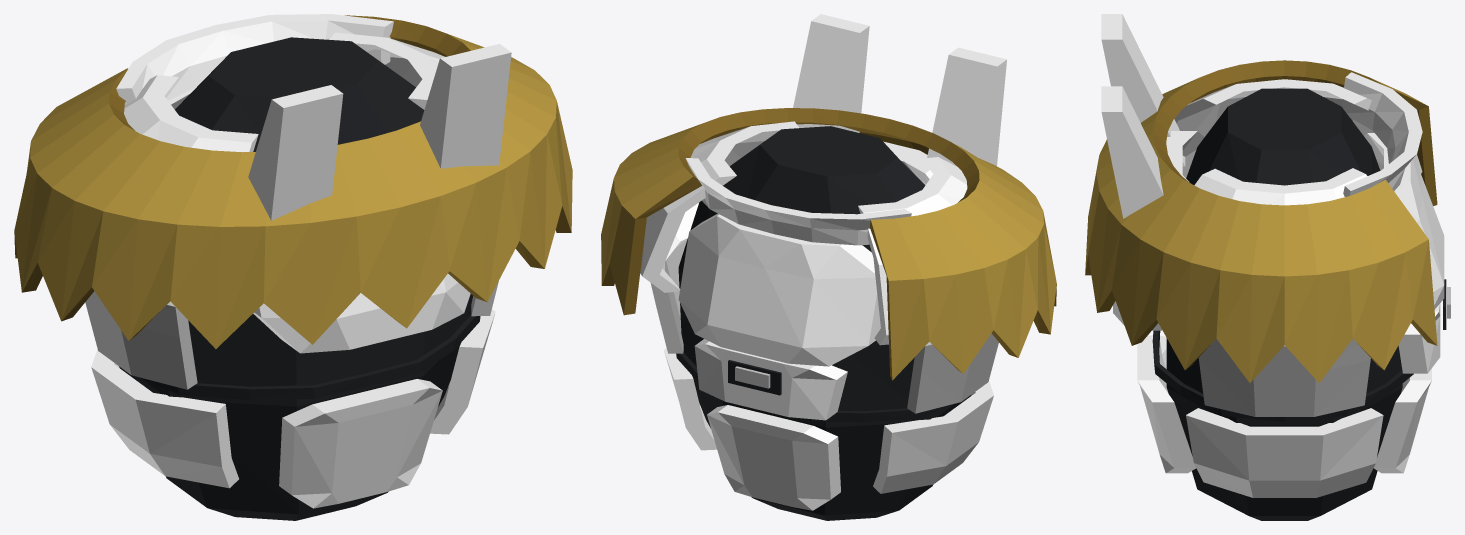
The model's file is person_fat_armor_cataphract_prestige.obj.
The picture shows the model from 3 angles, left to right: view 1: azimuth 30°, elevation 25°; view 2: azimuth 150°, elevation 25°; view 3: azimuth 270°, elevation 25°; orthographic projection. The views are drawn at different scales.
Parts seen in each view (by area): view 1: person_fat_armor_cataphract_prestige, person_fat_armor_cataphract_prestige_addons; view 2: person_fat_armor_cataphract_prestige, person_fat_armor_cataphract_prestige_addons; view 3: person_fat_armor_cataphract_prestige, person_fat_armor_cataphract_prestige_addons.
Part boxes in pixels (x1,y1,x2,y2): person_fat_armor_cataphract_prestige: (85,14,511,520); person_fat_armor_cataphract_prestige_addons: (14,15,572,348); person_fat_armor_cataphract_prestige: (640,14,1006,520); person_fat_armor_cataphract_prestige_addons: (601,108,1056,380); person_fat_armor_cataphract_prestige: (1101,14,1450,520); person_fat_armor_cataphract_prestige_addons: (1085,60,1437,383).
Bounding box in the file's own units: 0.942 × 0.855 × 0.6631.
